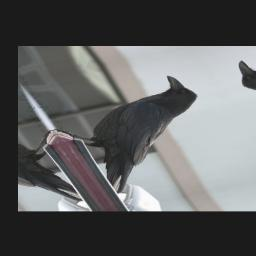Crow: (36, 72, 249, 197)
